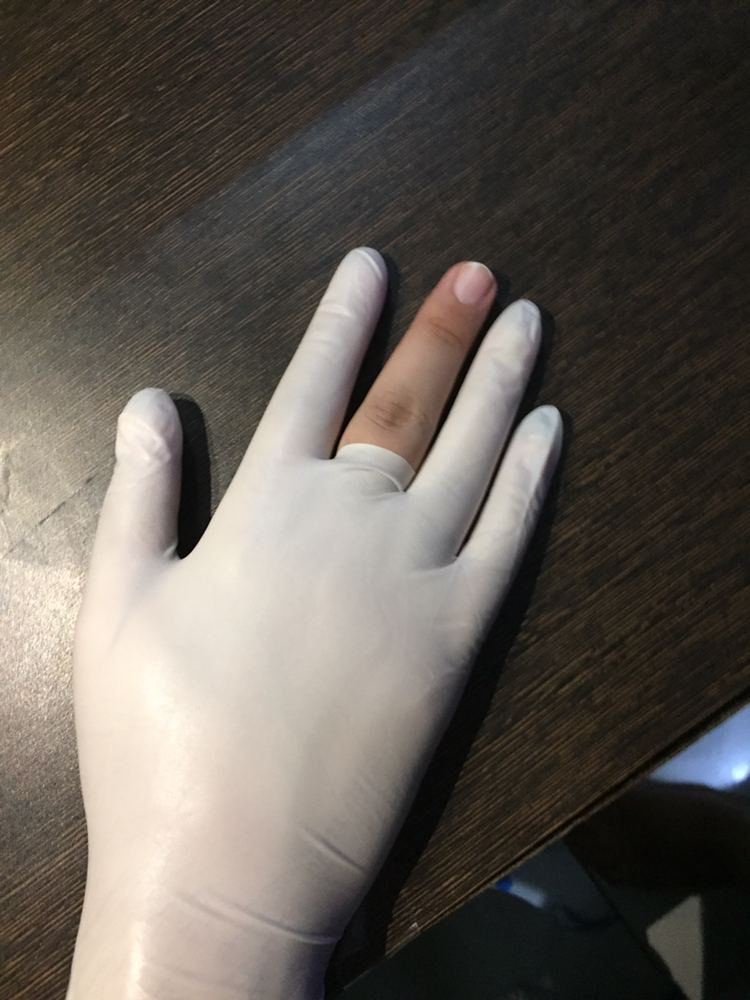defected: (71, 193, 567, 915)
